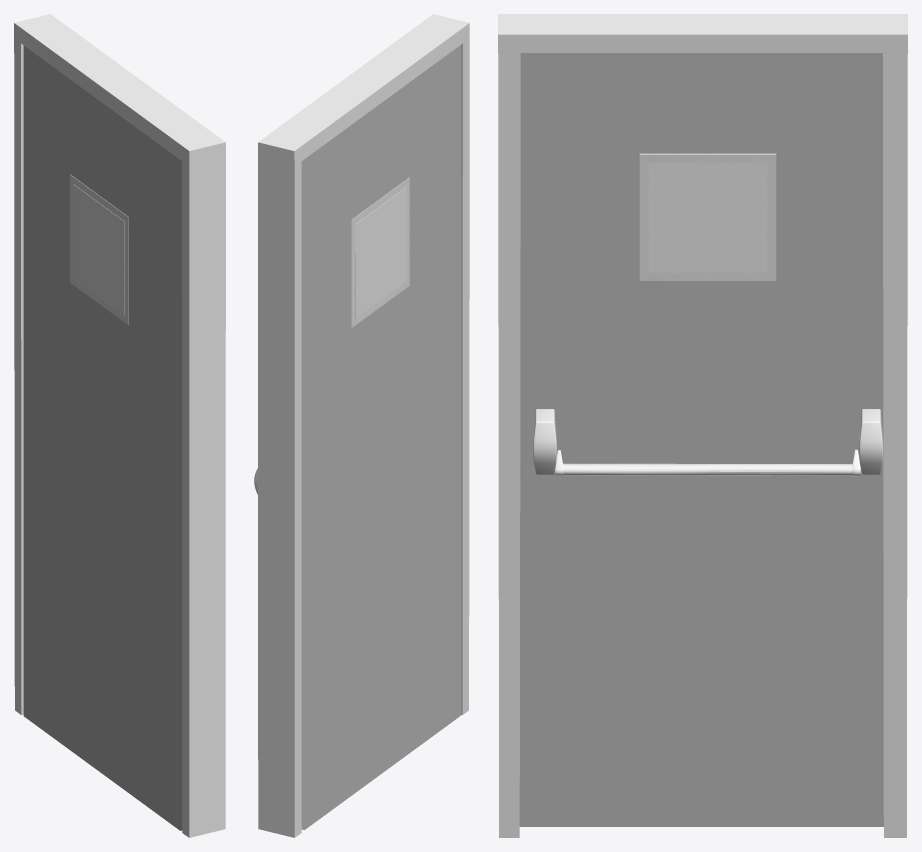
File: fire_door_single_door.fbx
The picture shows the model from 3 angles, left to right: view 1: azimuth 30°, elevation 25°; view 2: azimuth 150°, elevation 25°; view 3: azimuth 270°, elevation 25°; orthographic projection. The views are drawn at different scales.
Parts seen in each view (by area): view 1: Rectangle001, framew, Plane001; view 2: Rectangle001, framew, Plane001; view 3: Rectangle001, framew, Plane001, Cylinder002Shape, Box001, Box002.
Boxes of the visible parts, x1,y1,x2,y2 form: Rectangle001: (23, 45, 182, 830); framew: (14, 14, 225, 837); Plane001: (70, 174, 128, 325); Rectangle001: (301, 45, 460, 829); framew: (258, 14, 469, 837); Plane001: (351, 177, 409, 328); Rectangle001: (519, 53, 883, 826); framew: (498, 14, 907, 837); Plane001: (639, 153, 776, 280); Cylinder002Shape: (555, 449, 860, 476); Box001: (533, 409, 556, 474); Box002: (859, 409, 882, 474).
Bounding box in the file's own units: 19.83 × 249 × 115.
